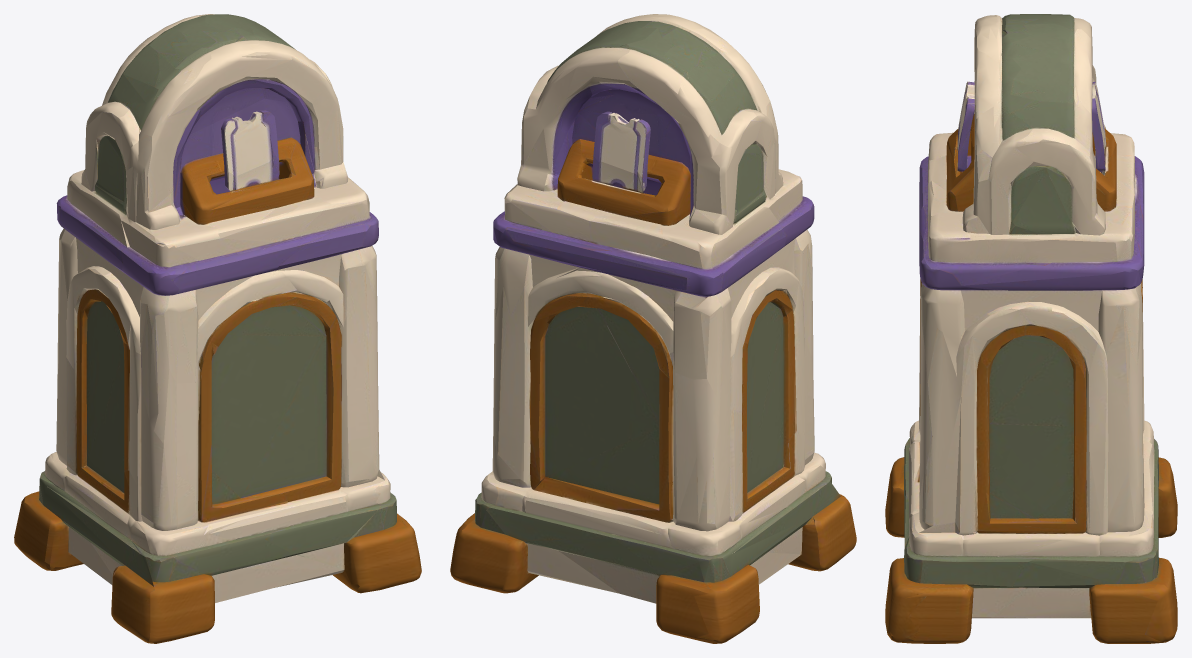
Rendered from ballotBox.glb.
3 renders of one model, left to right at view 1: azimuth 30°, elevation 25°; view 2: azimuth 150°, elevation 25°; view 3: azimuth 270°, elevation 25°, orthographic. The views are drawn at different scales.
Parts seen in each view (by area): view 1: Mesh_0; view 2: Mesh_0; view 3: Mesh_0.
Part boxes in pixels (bbox=[...]): Mesh_0: bbox=[14, 14, 421, 643]; Mesh_0: bbox=[450, 14, 856, 643]; Mesh_0: bbox=[885, 14, 1177, 643].
Bounding box in the file's own units: 0.6059 × 1.1 × 0.5278.
Materials: 1 (1 with a texture image).
